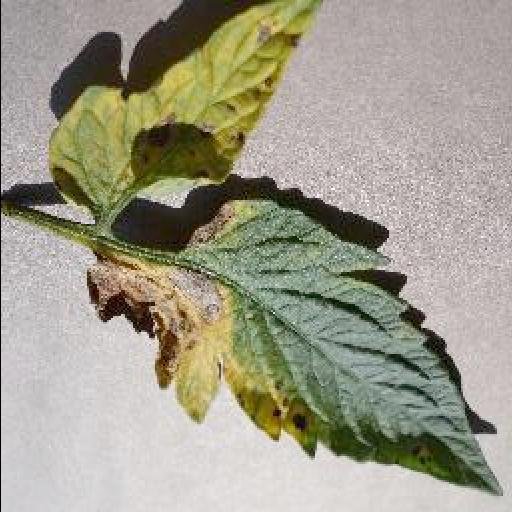disease_tomato: (82, 199, 502, 495)
